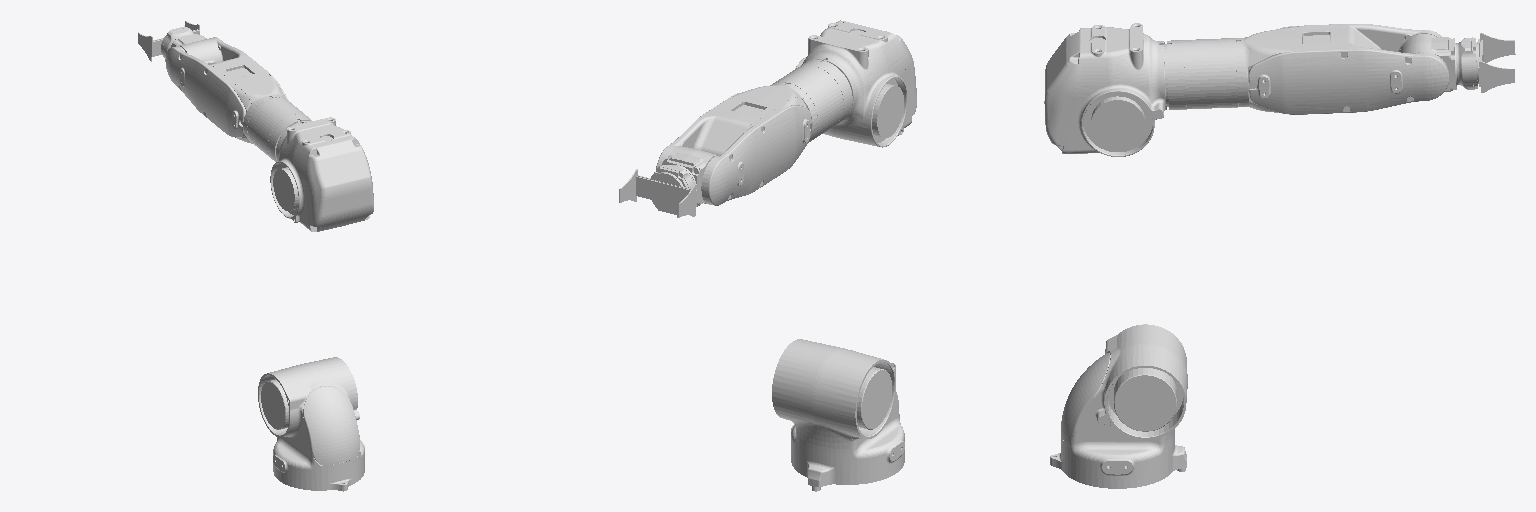
robot.urdf — robo2:
<?xml version="1.0" encoding="utf-8"?>
<!-- This URDF was automatically created by SolidWorks to URDF Exporter! Originally created by Stephen Brawner (brawner@gmail.com) 
     Commit Version: 1.6.0-4-g7f85cfe  Build Version: 1.6.7995.38578
     For more information, please see http://wiki.ros.org/sw_urdf_exporter -->
<robot
  name="robo2">
  <link
    name="base_link">
    <inertial>
      <origin
        xyz="0.0055689 -6.2707E-07 0.094758"
        rpy="0 0 0" />
      <mass
        value="5.2154" />
      <inertia
        ixx="0.026026"
        ixy="-2.5925E-05"
        ixz="-0.00013984"
        iyy="0.025295"
        iyz="4.7678E-05"
        izz="0.021721" />
    </inertial>
    <visual>
      <origin
        xyz="0 0 0"
        rpy="0 0 0" />
      <geometry>
        <mesh
          filename="package://robo2/meshes/base_link.STL" />
      </geometry>
      <material
        name="">
        <color
          rgba="0.89412 0.89412 0.89412 1" />
      </material>
    </visual>
    <collision>
      <origin
        xyz="0 0 0"
        rpy="0 0 0" />
      <geometry>
        <mesh
          filename="package://robo2/meshes/base_link.STL" />
      </geometry>
    </collision>
  </link>
  <link
    name="Link_1">
    <inertial>
      <origin
        xyz="0.00019588 0.015671 0.08669"
        rpy="0 0 0" />
      <mass
        value="2.9447" />
      <inertia
        ixx="0.011947"
        ixy="-4.7017E-06"
        ixz="-9.7605E-06"
        iyy="0.011181"
        iyz="-0.0021792"
        izz="0.0088687" />
    </inertial>
    <visual>
      <origin
        xyz="0 0 0"
        rpy="0 0 0" />
      <geometry>
        <mesh
          filename="package://robo2/meshes/Link_1.STL" />
      </geometry>
      <material
        name="">
        <color
          rgba="0.89412 0.89412 0.89412 1" />
      </material>
    </visual>
    <collision>
      <origin
        xyz="0 0 0"
        rpy="0 0 0" />
      <geometry>
        <mesh
          filename="package://robo2/meshes/Link_1.STL" />
      </geometry>
    </collision>
  </link>
  <joint
    name="L0_L1_Joint"
    type="revolute">
    <origin
      xyz="0 0 0.20326"
      rpy="0 0 0" />
    <parent
      link="base_link" />
    <child
      link="Link_1" />
    <axis
      xyz="0 0 -1" />
    <limit
      lower="-3.14"
      upper="3.14"
      effort="2"
      velocity="2" />
  </joint>
  <link
    name="Link_2">
    <inertial>
      <origin
        xyz="-0.0046887 0.1918 -0.00022028"
        rpy="0 0 0" />
      <mass
        value="6.2405" />
      <inertia
        ixx="0.12557"
        ixy="0.0084529"
        ixz="5.916E-05"
        iyy="0.028487"
        iyz="0.00051786"
        izz="0.11052" />
    </inertial>
    <visual>
      <origin
        xyz="0 0 0"
        rpy="0 0 0" />
      <geometry>
        <mesh
          filename="package://robo2/meshes/Link_2.STL" />
      </geometry>
      <material
        name="">
        <color
          rgba="0.89412 0.89412 0.89412 1" />
      </material>
    </visual>
    <collision>
      <origin
        xyz="0 0 0"
        rpy="0 0 0" />
      <geometry>
        <mesh
          filename="package://robo2/meshes/Link_2.STL" />
      </geometry>
    </collision>
  </link>
  <joint
    name="L1_L2_Joint"
    type="revolute">
    <origin
      xyz="0 0 0.12674"
      rpy="1.5708 0 1.5708" />
    <parent
      link="Link_1" />
    <child
      link="Link_2" />
    <axis
      xyz="-0.0039166 0 0.99999" />
    <limit
      lower="-3.14"
      upper="3.14"
      effort="2"
      velocity="2" />
  </joint>
  <link
    name="Link_3">
    <inertial>
      <origin
        xyz="0.019315 0.016802 0.00078811"
        rpy="0 0 0" />
      <mass
        value="2.8492" />
      <inertia
        ixx="0.0068552"
        ixy="0.00084153"
        ixz="3.4001E-05"
        iyy="0.0083111"
        iyz="2.8648E-05"
        izz="0.0077913" />
    </inertial>
    <visual>
      <origin
        xyz="0 0 0"
        rpy="0 0 0" />
      <geometry>
        <mesh
          filename="package://robo2/meshes/Link_3.STL" />
      </geometry>
      <material
        name="">
        <color
          rgba="0.89412 0.89412 0.89412 1" />
      </material>
    </visual>
    <collision>
      <origin
        xyz="0 0 0"
        rpy="0 0 0" />
      <geometry>
        <mesh
          filename="package://robo2/meshes/Link_3.STL" />
      </geometry>
    </collision>
  </link>
  <joint
    name="L2_L3_Joint"
    type="revolute">
    <origin
      xyz="0.00081105 0.44327 0"
      rpy="0 0 1.5708" />
    <parent
      link="Link_2" />
    <child
      link="Link_3" />
    <axis
      xyz="0 0.0039166 0.99999" />
    <limit
      lower="-3.14"
      upper="3.14"
      effort="2"
      velocity="2" />
  </joint>
  <link
    name="Link_4">
    <inertial>
      <origin
        xyz="0.011001 -0.24652 0.00080799"
        rpy="0 0 0" />
      <mass
        value="2.7554" />
      <inertia
        ixx="0.010071"
        ixy="0.00031236"
        ixz="-1.7231E-05"
        iyy="0.0031023"
        iyz="0.00034831"
        izz="0.010782" />
    </inertial>
    <visual>
      <origin
        xyz="0 0 0"
        rpy="0 0 0" />
      <geometry>
        <mesh
          filename="package://robo2/meshes/Link_4.STL" />
      </geometry>
      <material
        name="">
        <color
          rgba="0.89412 0.89412 0.89412 1" />
      </material>
    </visual>
    <collision>
      <origin
        xyz="0 0 0"
        rpy="0 0 0" />
      <geometry>
        <mesh
          filename="package://robo2/meshes/Link_4.STL" />
      </geometry>
    </collision>
  </link>
  <joint
    name="L3_L4_Joint"
    type="revolute">
    <origin
      xyz="0.040004 0.00081105 0"
      rpy="0 0 0" />
    <parent
      link="Link_3" />
    <child
      link="Link_4" />
    <axis
      xyz="-0.045196 0.99897 -0.0039126" />
    <limit
      lower="-3.14"
      upper="3.14"
      effort="2"
      velocity="2" />
  </joint>
  <link
    name="Link_5">
    <inertial>
      <origin
        xyz="0.013171 0.00090306 0.0027997"
        rpy="0 0 0" />
      <mass
        value="0.24589" />
      <inertia
        ixx="0.00015699"
        ixy="-1.2606E-06"
        ixz="1.188E-06"
        iyy="0.00013937"
        iyz="-7.9799E-08"
        izz="0.00018563" />
    </inertial>
    <visual>
      <origin
        xyz="0 0 0"
        rpy="0 0 0" />
      <geometry>
        <mesh
          filename="package://robo2/meshes/Link_5.STL" />
      </geometry>
      <material
        name="">
        <color
          rgba="0.89412 0.89412 0.89412 1" />
      </material>
    </visual>
    <collision>
      <origin
        xyz="0 0 0"
        rpy="0 0 0" />
      <geometry>
        <mesh
          filename="package://robo2/meshes/Link_5.STL" />
      </geometry>
    </collision>
  </link>
  <joint
    name="L4_L5_Joint"
    type="revolute">
    <origin
      xyz="0.019932 -0.44055 0.0017255"
      rpy="0 0 -1.5708" />
    <parent
      link="Link_4" />
    <child
      link="Link_5" />
    <axis
      xyz="-0.0039733 0.0012536 0.99999" />
    <limit
      lower="-3.14"
      upper="3.14"
      effort="2"
      velocity="2" />
  </joint>
  <link
    name="Link_6">
    <inertial>
      <origin
        xyz="0.003766 0.0013248 0.076346"
        rpy="0 0 0" />
      <mass
        value="0.04334" />
      <inertia
        ixx="1.9535E-05"
        ixy="-9.1754E-08"
        ixz="3.0297E-07"
        iyy="7.0146E-06"
        iyz="7.6313E-08"
        izz="2.5731E-05" />
    </inertial>
    <visual>
      <origin
        xyz="0 0 0"
        rpy="0 0 0" />
      <geometry>
        <mesh
          filename="package://robo2/meshes/Link_6.STL" />
      </geometry>
      <material
        name="">
        <color
          rgba="0.89412 0.89412 0.89412 1" />
      </material>
    </visual>
    <collision>
      <origin
        xyz="0 0 0"
        rpy="0 0 0" />
      <geometry>
        <mesh
          filename="package://robo2/meshes/Link_6.STL" />
      </geometry>
    </collision>
  </link>
  <joint
    name="L5_L6_Joint"
    type="revolute">
    <origin
      xyz="0 0 0"
      rpy="1.5708 0 1.5708" />
    <parent
      link="Link_5" />
    <child
      link="Link_6" />
    <axis
      xyz="-0.048901 -0.0039072 -0.9988" />
    <limit
      lower="-3.14"
      upper="3.14"
      effort="2"
      velocity="2" />
  </joint>
  <link
    name="Link_7">
    <inertial>
      <origin
        xyz="0.049 -5.5511E-16 0.024452"
        rpy="0 0 0" />
      <mass
        value="0.0030079" />
      <inertia
        ixx="9.1654E-07"
        ixy="-4.8481E-23"
        ixz="1.1725E-22"
        iyy="5.7354E-07"
        iyz="1.6709E-22"
        izz="3.45E-07" />
    </inertial>
    <visual>
      <origin
        xyz="0.0078232 -0.81063 -0.559274"
        rpy="3.09267 -0.00389977 -3.13299" />
      <geometry>
        <mesh
          filename="package://robo2/meshes/Link_7.STL" />
      </geometry>
      <material
        name="">
        <color
          rgba="0.89412 0.89412 0.89412 1" />
      </material>
    </visual>
    <collision>
      <origin
        xyz="0.0078232 -0.81063 -0.559274"
        rpy="3.09267 -0.00389977 -3.13299" />
      <geometry>
        <mesh
          filename="package://robo2/meshes/Link_7.STL" />
      </geometry>
    </collision>
  </link>
  <joint
    name="L6_L7_Joint"
    type="prismatic">
    <origin
      xyz="0.00384 0.0013067 0.078402"
      rpy="-0.048886 -0.0043229 -1.5792" />
    <parent
      link="Link_6" />
    <child
      link="Link_7" />
    <axis
      xyz="-1 0 0" />
    <limit
      lower="0"
      upper="0.047"
      effort="2"
      velocity="2" />
  </joint>
  <link
    name="Link_7.2">
    <inertial>
      <origin
        xyz="-0.049 -2.2204E-16 0.024452"
        rpy="0 0 0" />
      <mass
        value="0.0030079" />
      <inertia
        ixx="9.1654E-07"
        ixy="4.3802E-23"
        ixz="-4.4875E-23"
        iyy="5.7354E-07"
        iyz="3.9539E-22"
        izz="3.45E-07" />
    </inertial>
    <visual>
      <origin
        xyz="0.0078232 -0.81063 -0.559274"
        rpy="3.09267 -0.00389977 -3.13299" />
      <geometry>
        <mesh
          filename="package://robo2/meshes/Link_7.2.STL" />
      </geometry>
      <material
        name="">
        <color
          rgba="0.89412 0.89412 0.89412 1" />
      </material>
    </visual>
    <collision>
      <origin
        xyz="0.0078232 -0.81063 -0.559274"
        rpy="3.09267 -0.00389977 -3.13299" />
      <geometry>
        <mesh
          filename="package://robo2/meshes/Link_7.2.STL" />
      </geometry>
    </collision>
  </link>
  <joint
    name="L6_L7.2"
    type="prismatic">
    <origin
      xyz="0.00384 0.0013067 0.078402"
      rpy="-0.048886 -0.0043229 -1.5792" />
    <parent
      link="Link_6" />
    <child
      link="Link_7.2" />
    <axis
      xyz="1 0 0" />
    <limit
      lower="0"
      upper="0.047"
      effort="2"
      velocity="2" />
  </joint>
</robot>

--- Facts derived from the render (not from the file) ---
Views: 3 orthographic renders of the robot side by side, from view 1: azimuth 30°, elevation 25°; view 2: azimuth 150°, elevation 25°; view 3: azimuth 270°, elevation 25°.
Model robo2 with 9 links and 8 joints (6 revolute, 2 prismatic), rooted at base_link, posed every joint at zero.
Links seen in each view (by area): view 1: Link_1, Link_3, Link_4, Link_5; view 2: Link_1, Link_4, Link_3, Link_5, Link_6; view 3: Link_4, Link_1, Link_3, Link_5, Link_7.2, Link_7.
Boxes of the visible links, bbox=[...] form: Link_1: bbox=[258, 357, 364, 491]; Link_3: bbox=[270, 117, 373, 231]; Link_4: bbox=[165, 37, 311, 161]; Link_5: bbox=[161, 26, 221, 64]; Link_1: bbox=[772, 339, 904, 491]; Link_4: bbox=[656, 60, 852, 205]; Link_3: bbox=[795, 20, 916, 147]; Link_5: bbox=[651, 146, 718, 214]; Link_6: bbox=[636, 172, 696, 211]; Link_4: bbox=[1167, 24, 1448, 114]; Link_1: bbox=[1050, 324, 1187, 488]; Link_3: bbox=[1044, 23, 1168, 156]; Link_5: bbox=[1400, 34, 1477, 91]; Link_7.2: bbox=[1479, 61, 1514, 92]; Link_7: bbox=[1480, 33, 1515, 62].
Size in the robot's own frame: 0.1662 by 0.677 by 0.6887 metres.
Meshes: 9 distinct files referenced, 7 mesh visuals loaded (7 binary STL); not drawn: 2 (reference not matched to a file when rendering).
